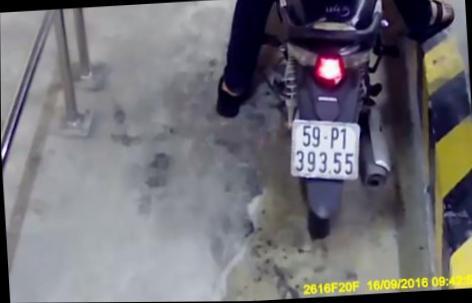LP: (286, 113, 364, 185)
